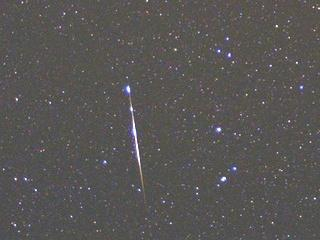meteorite: (126, 85, 148, 193)
